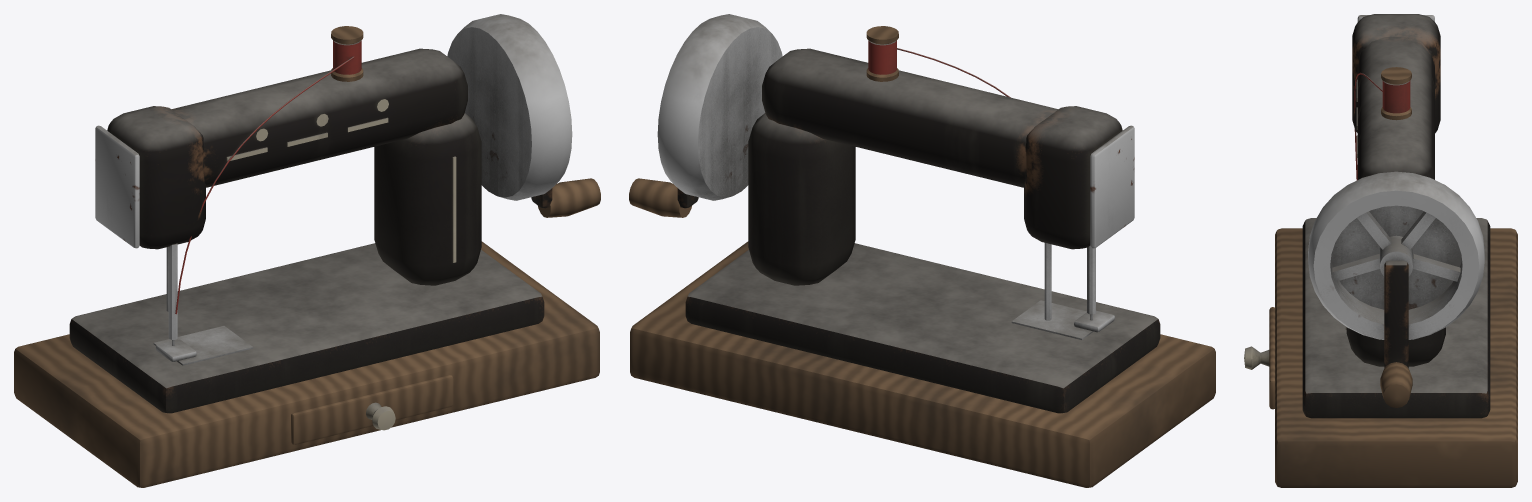
Rendered from SM_SewingMachine.fbx.
3 views of the same model, side by side, from view 1: azimuth 30°, elevation 25°; view 2: azimuth 150°, elevation 25°; view 3: azimuth 270°, elevation 25° (orthographic). The views are drawn at different scales.
Parts seen in each view (by area): view 1: SM_SewingMachine; view 2: SM_SewingMachine; view 3: SM_SewingMachine.
Part boxes in pixels (x1,y1,x2,y2): SM_SewingMachine: (14,14,600,487); SM_SewingMachine: (629,14,1215,487); SM_SewingMachine: (1244,14,1517,487).
Bounding box in the file's own units: 0.52 × 0.328 × 0.248.
1 material, 1 textured.
